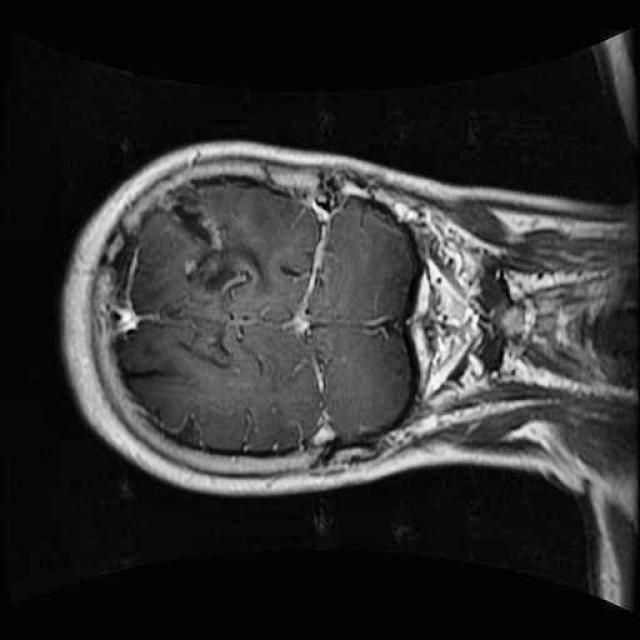Non-Tumor: (124, 164, 304, 321)
